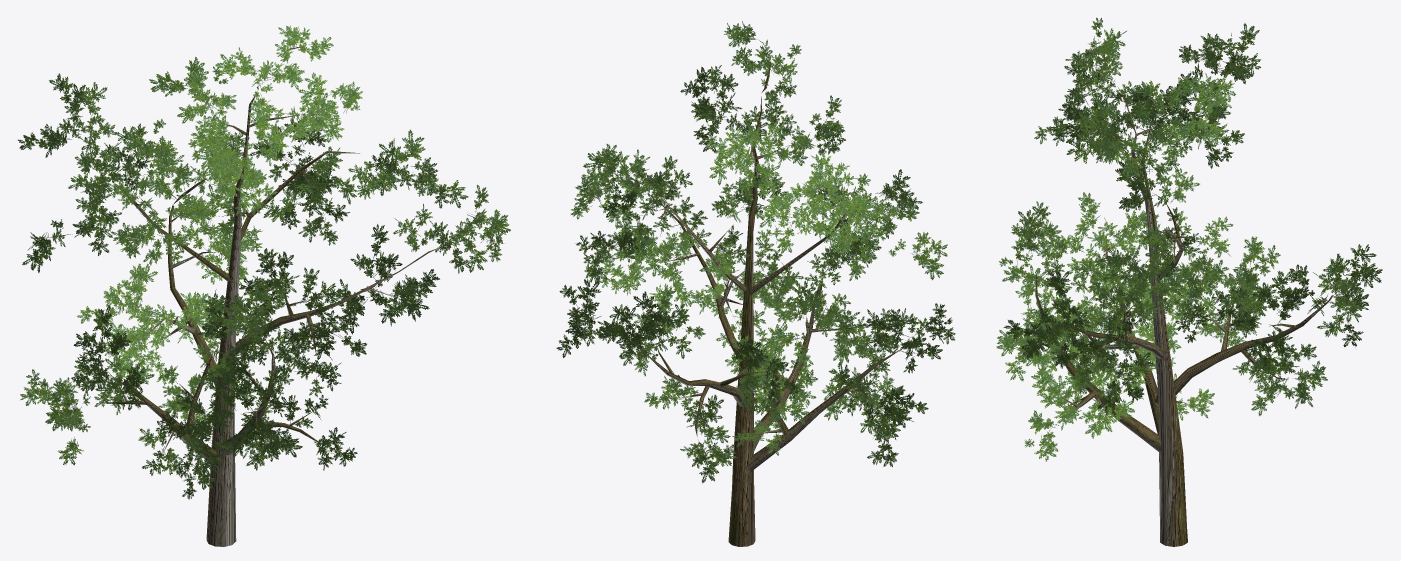
File: ash-mid.glb
3 views of the same model, side by side, from view 1: azimuth 30°, elevation 25°; view 2: azimuth 150°, elevation 25°; view 3: azimuth 270°, elevation 25° (orthographic). The views are drawn at different scales.
Parts seen in each view (by area): view 1: ash-leaves, ash-bark; view 2: ash-leaves, ash-bark; view 3: ash-leaves, ash-bark.
Boxes of the visible parts, left/top/right/bottom form: ash-leaves: left=18, top=25, right=510, bottom=499; ash-bark: left=97, top=46, right=464, bottom=546; ash-leaves: left=556, top=21, right=955, bottom=483; ash-bark: left=619, top=38, right=901, bottom=546; ash-leaves: left=996, top=17, right=1382, bottom=461; ash-bark: left=1029, top=49, right=1335, bottom=546.
Bounding box in the file's own units: 9.19 × 10.52 × 7.12.
Materials: 2 (2 with a texture image).
